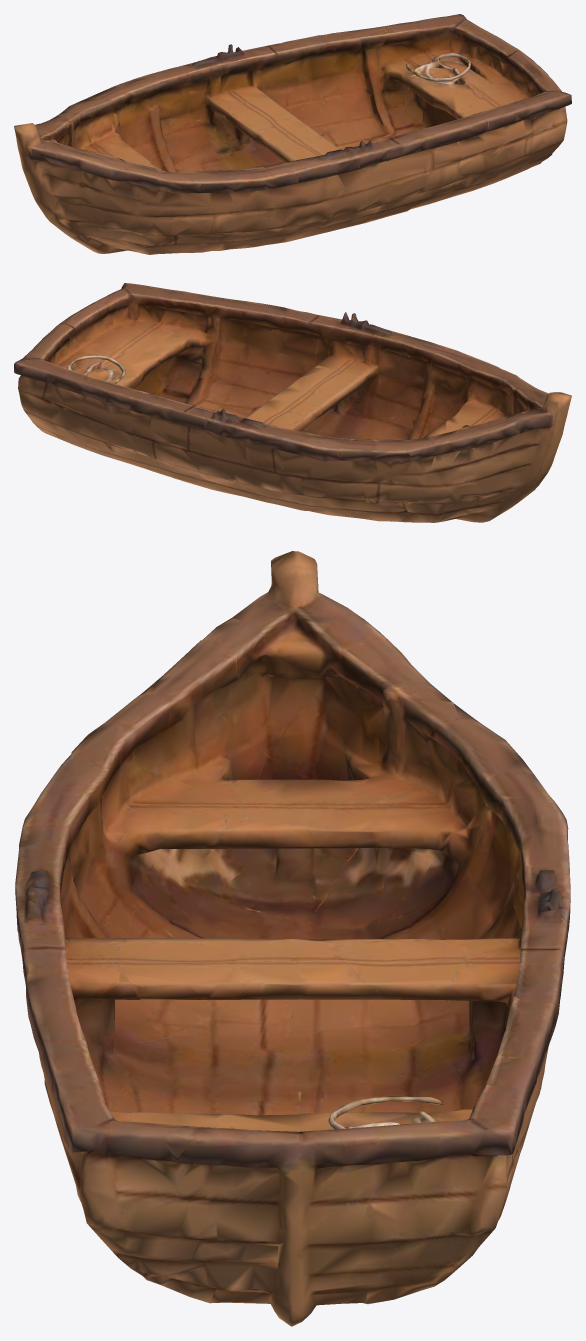
The model's file is bateau.glb.
3 views of the same model, one above another, from view 1: azimuth 30°, elevation 25°; view 2: azimuth 150°, elevation 25°; view 3: azimuth 270°, elevation 25° (orthographic). The views are drawn at different scales.
Bounding box in the file's own units: 2 × 0.5753 × 0.9463.
1 material, 1 textured.
